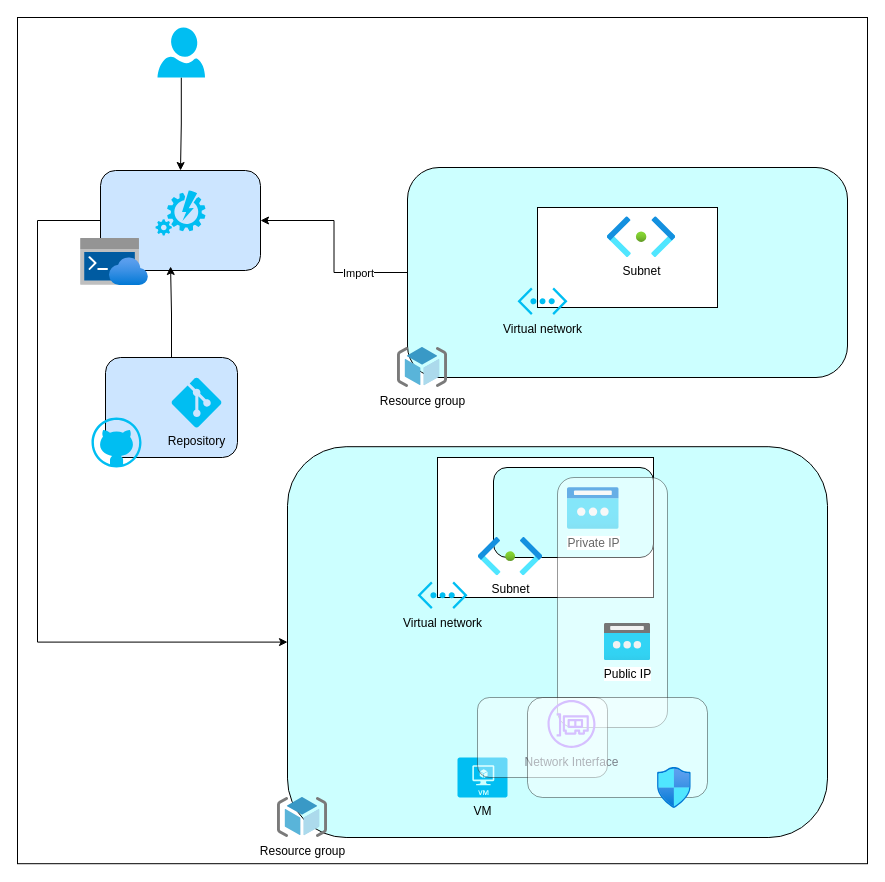
Some shapes in this 885 by 882 pixel diagram are drawn without their labels. The shapes that lost their labels are listed below. From the top down, each one's box as (x1, y1, x2, y2) in pixels, then its label:
(157, 27, 204, 77): User
(155, 190, 205, 235): Terraform
(80, 238, 148, 285): Shell
(91, 417, 141, 467): GitHub
(657, 767, 691, 808): NSG
